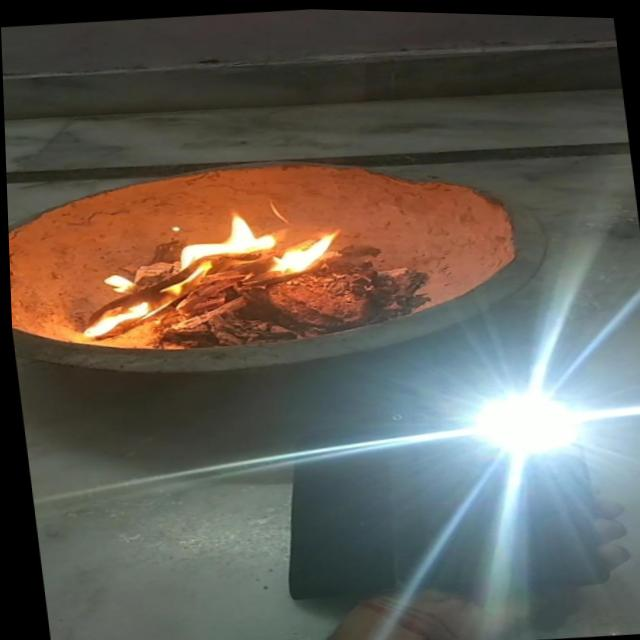fire: (56, 194, 360, 346)
